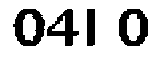0: (9, 6, 46, 46), (116, 7, 151, 49)
4: (47, 3, 82, 53)
I: (83, 2, 101, 51)
